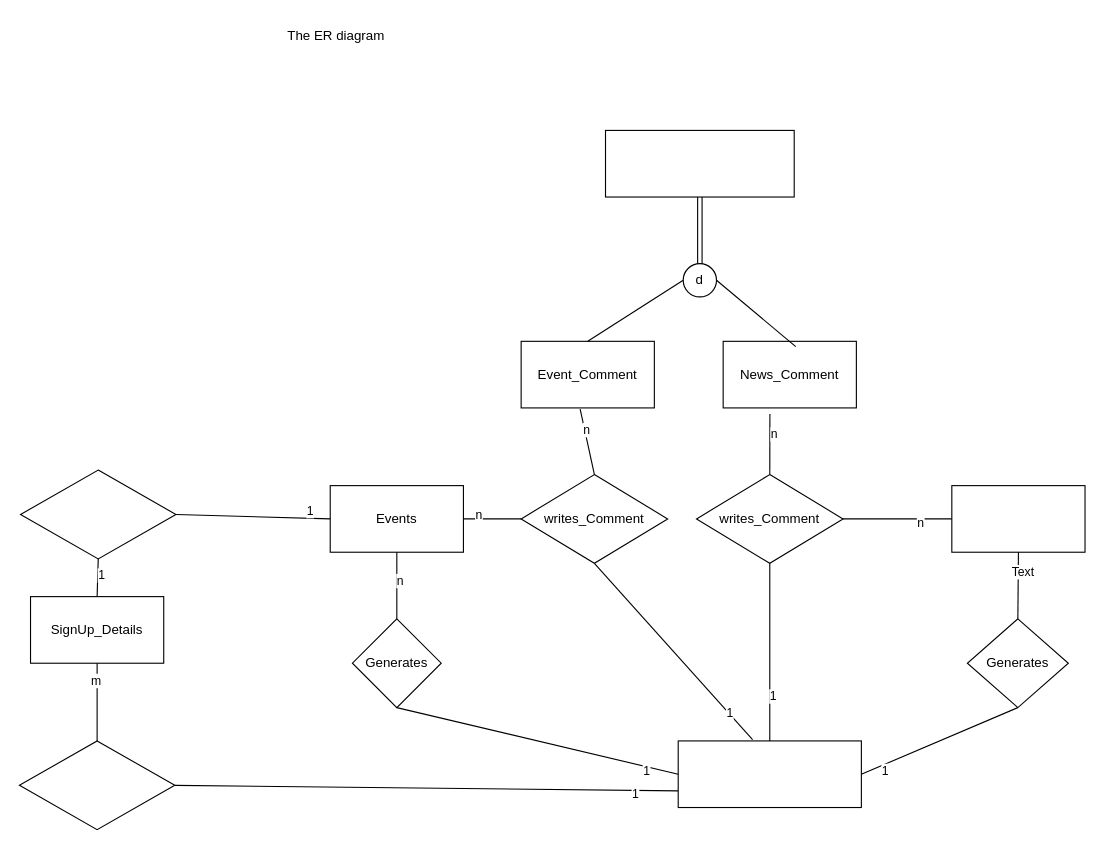
Some shapes in this 1104 by 849 pixel diagram are drawn without their labels. Each missing label, with the centre of its shape:
"Comment" goes at point (699, 163).
"News" goes at point (1018, 518).
"Relates_To" goes at point (97, 514).
"Sign_up" goes at point (96, 785).
"User" goes at point (769, 774).
